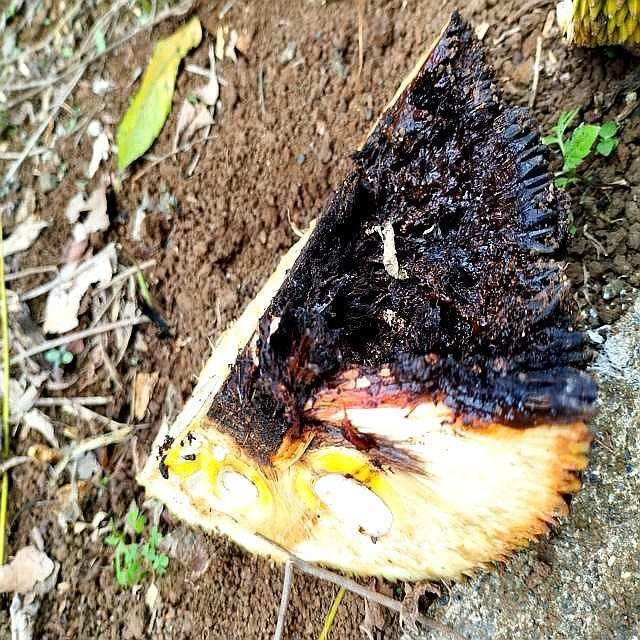Biodegradable: (185, 21, 593, 575)
